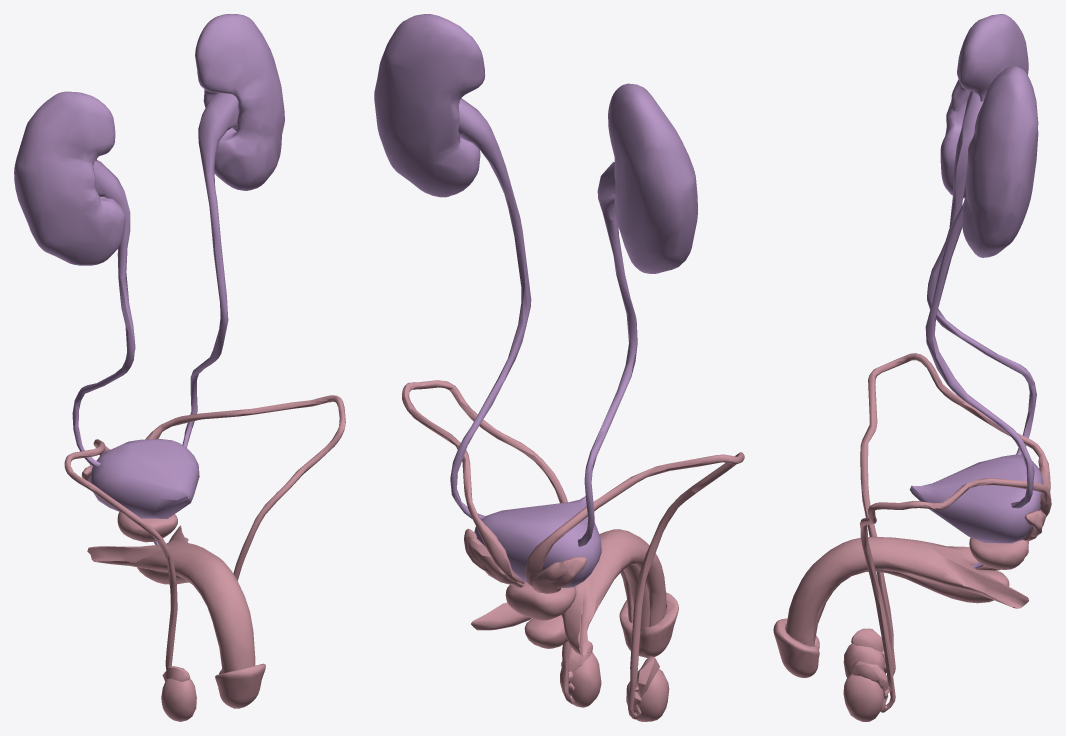
Rendered from urogenital.glb.
The picture shows the model from 3 angles, left to right: view 1: azimuth 30°, elevation 25°; view 2: azimuth 150°, elevation 25°; view 3: azimuth 270°, elevation 25°; orthographic projection. The views are drawn at different scales.
Parts seen in each view (by area): view 1: Right kidney, Left kidney, Corpus cavernosum of penis, Urinary bladder, Left ureter, Right ureter, Left deferent duct, Right deferent duct, Glans penis, Right testis, Prostate; view 2: Left kidney, Right kidney, Corpus cavernosum of penis, Urinary bladder, Right deferent duct, Left ureter, Left deferent duct, Right ureter, Prostate, Corpus spongiosum of penis, Glans penis, Left testis (+3 smaller); view 3: Left kidney, Corpus cavernosum of penis, Urinary bladder, Right kidney, Right deferent duct, Right ureter, Left deferent duct, Left ureter, Glans penis, Left testis, Corpus spongiosum of penis, Prostate (+4 smaller).
Boxes of the visible parts, x1,y1,x2,y2 form: Right kidney: (14,91,125,265); Left kidney: (195,14,284,190); Corpus cavernosum of penis: (87,525,255,673); Urinary bladder: (90,439,199,518); Left ureter: (182,93,238,447); Right ureter: (72,160,135,467); Left deferent duct: (145,395,345,580); Right deferent duct: (64,439,177,670); Glans penis: (215,663,265,708); Right testis: (161,679,196,721); Prostate: (117,512,177,542); Left kidney: (374,14,485,197); Right kidney: (608,83,697,273); Corpus cavernosum of penis: (471,529,666,655); Urinary bladder: (474,496,601,587); Right deferent duct: (525,452,744,719); Left ureter: (450,98,531,519); Left deferent duct: (402,380,574,703); Right ureter: (577,161,637,546); Prostate: (505,581,576,620); Corpus spongiosum of penis: (524,564,649,648); Glans penis: (619,592,678,657); Left testis: (560,652,601,707); Left kidney: (962,66,1038,257); Corpus cavernosum of penis: (785,536,1028,646); Urinary bladder: (909,454,1043,543); Right kidney: (940,14,1028,198); Right deferent duct: (860,353,1050,676); Right ureter: (927,91,1036,455); Left deferent duct: (860,478,1051,712); Left ureter: (925,203,1034,508); Glans penis: (773,618,819,677); Left testis: (843,673,883,721); Corpus spongiosum of penis: (814,569,1009,643); Prostate: (969,537,1028,569).
Bounding box in the file's own units: 0.9488 × 2 × 0.7402.
